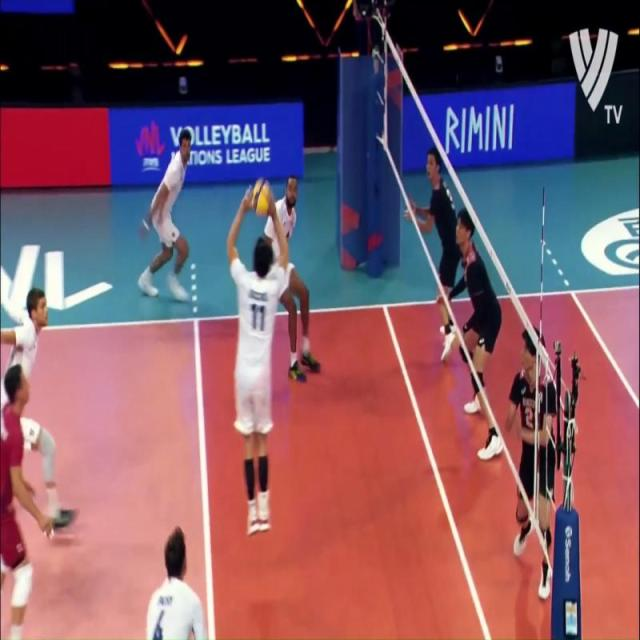volleyball: (251, 178, 272, 216)
